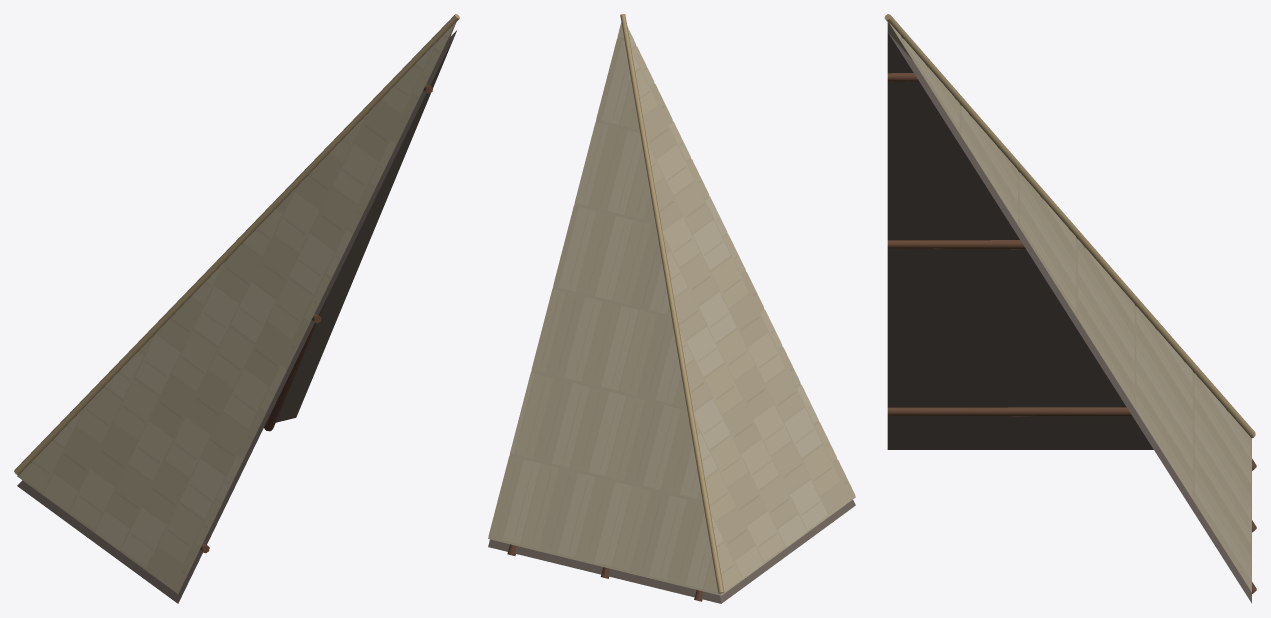
Rendered from Roof_Hip_60.glb.
The picture shows the model from 3 angles, left to right: view 1: azimuth 30°, elevation 25°; view 2: azimuth 150°, elevation 25°; view 3: azimuth 270°, elevation 25°; orthographic projection. The views are drawn at different scales.
Visible parts, largest first — view 1: _MeshInstance3D_3555, _MeshInstance3D_3562, _MeshInstance3D_3560; view 2: _MeshInstance3D_3555, _MeshInstance3D_3562; view 3: _MeshInstance3D_3555, _MeshInstance3D_3562, _MeshInstance3D_3557, _MeshInstance3D_3559.
Boxes of the visible parts, bbox=[...] form: _MeshInstance3D_3555: bbox=[17, 22, 456, 603]; _MeshInstance3D_3562: bbox=[14, 14, 459, 475]; _MeshInstance3D_3560: bbox=[264, 297, 327, 431]; _MeshInstance3D_3555: bbox=[488, 22, 855, 603]; _MeshInstance3D_3562: bbox=[620, 14, 724, 593]; _MeshInstance3D_3555: bbox=[887, 22, 1251, 603]; _MeshInstance3D_3562: bbox=[884, 14, 1255, 438]; _MeshInstance3D_3557: bbox=[887, 407, 1131, 416]; _MeshInstance3D_3559: bbox=[887, 240, 1025, 249].
Bounding box in the file's own units: 3.06 × 5.4 × 3.06.
